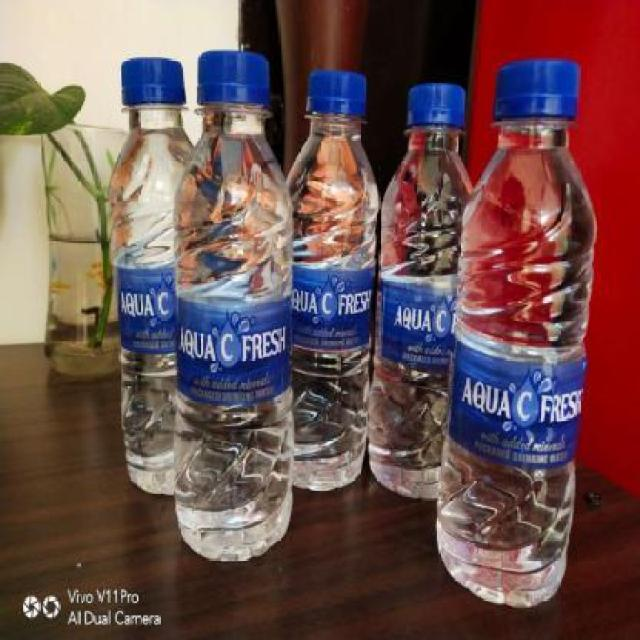bottle: (438, 48, 599, 612), (164, 37, 304, 571), (103, 46, 239, 502), (368, 79, 468, 502), (292, 64, 368, 494)
